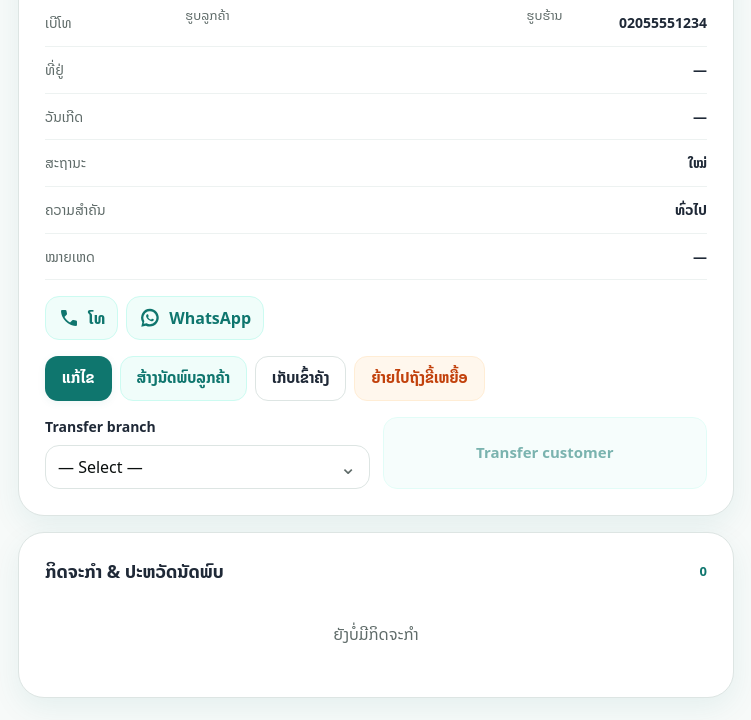
Scenario: CustomerDetailPage transfer › announces a transfer failure with the Orange error presentation
(page scrolled)
Expected: the text "ຮູບລູກຄ້າ" is shown, [185,5,230,26]
Click the dropdown named "Transfer branch". click: point(100, 467)
box: [45,445,370,489]
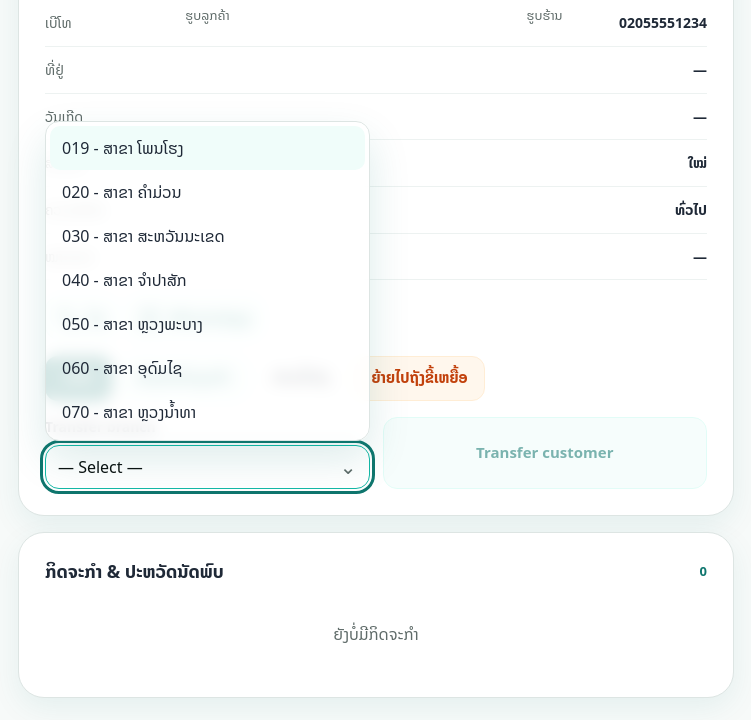
Click the option "019 - ສາຂາ ໂພນໂຮງ". click: point(123, 148)
box: [50,126,364,170]
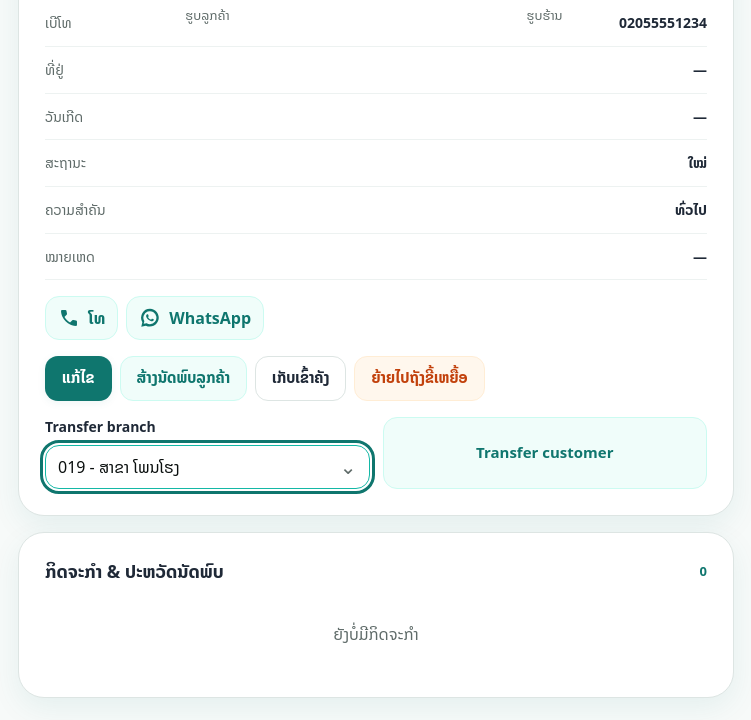
Click the button "Transfer customer". click: point(545, 453)
box: [382,416,707,489]
(page scrolled)
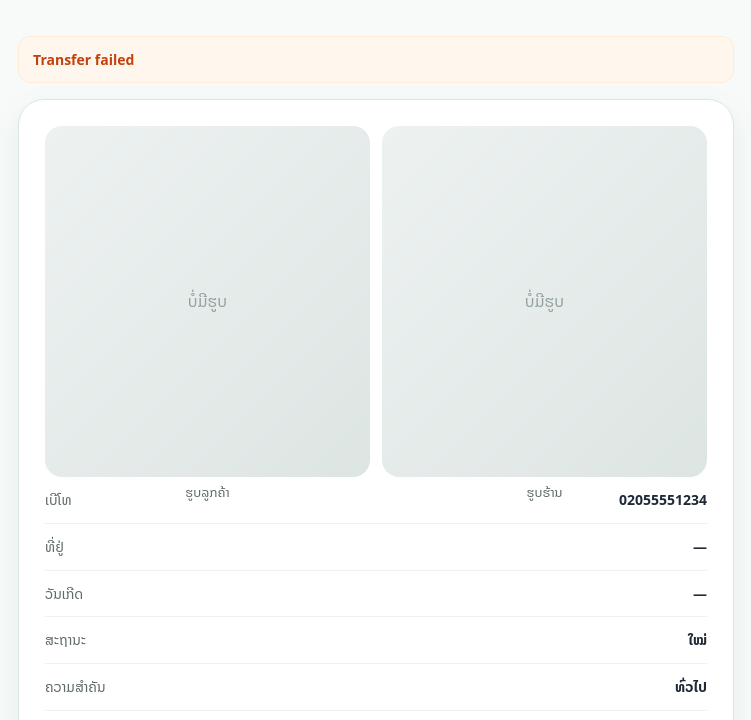
Now the message reads "Transfer failed", box [33,48,134,71]
